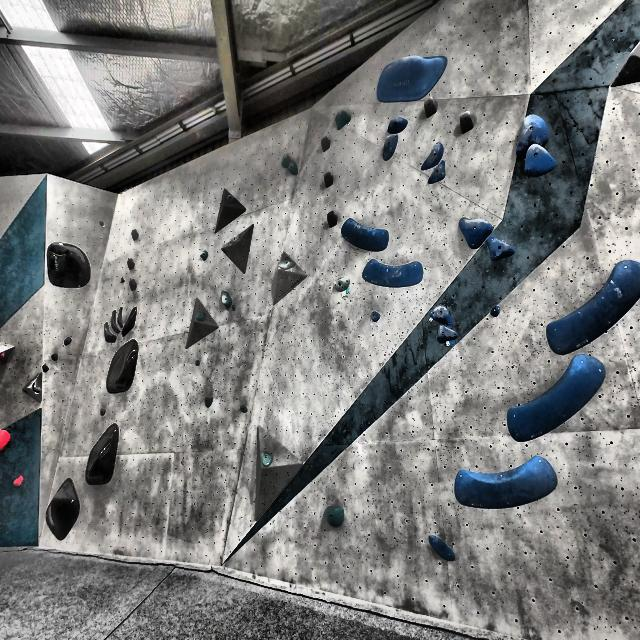Hold: (546, 253, 640, 356), (510, 355, 610, 442), (451, 461, 557, 510), (377, 51, 450, 103), (47, 238, 93, 291), (84, 422, 118, 486), (360, 260, 426, 290), (48, 480, 80, 539), (107, 339, 139, 394), (340, 217, 391, 251), (457, 210, 493, 249), (513, 116, 546, 158), (518, 149, 558, 178), (414, 140, 448, 170), (429, 534, 454, 562), (487, 235, 512, 262), (322, 505, 348, 530), (382, 110, 410, 133), (435, 323, 460, 346), (382, 131, 400, 162), (122, 307, 140, 338), (426, 161, 449, 184), (430, 302, 452, 324), (334, 105, 352, 131), (278, 155, 301, 175), (332, 276, 354, 294), (101, 322, 116, 346), (0, 424, 10, 453), (218, 292, 234, 310), (202, 391, 216, 409), (276, 259, 296, 271), (262, 449, 273, 468), (111, 310, 118, 338), (227, 229, 240, 244), (226, 192, 238, 207), (14, 473, 26, 488), (491, 304, 503, 318), (198, 249, 210, 261), (369, 309, 380, 322), (195, 311, 208, 322), (64, 335, 76, 346), (30, 383, 43, 393), (0, 349, 7, 366), (118, 304, 122, 330), (50, 352, 59, 362), (193, 355, 200, 367), (238, 405, 248, 413), (98, 407, 106, 416), (42, 362, 48, 372)
